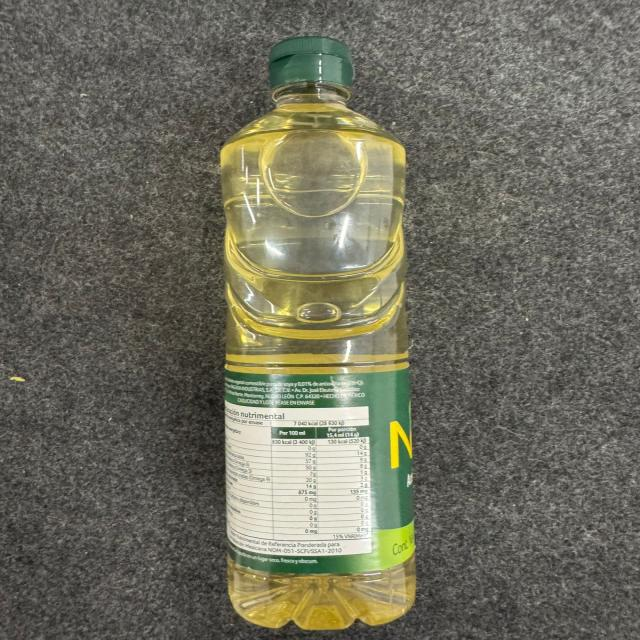ACEITE NUTRIOLI 400 ML: (212, 31, 426, 631)
